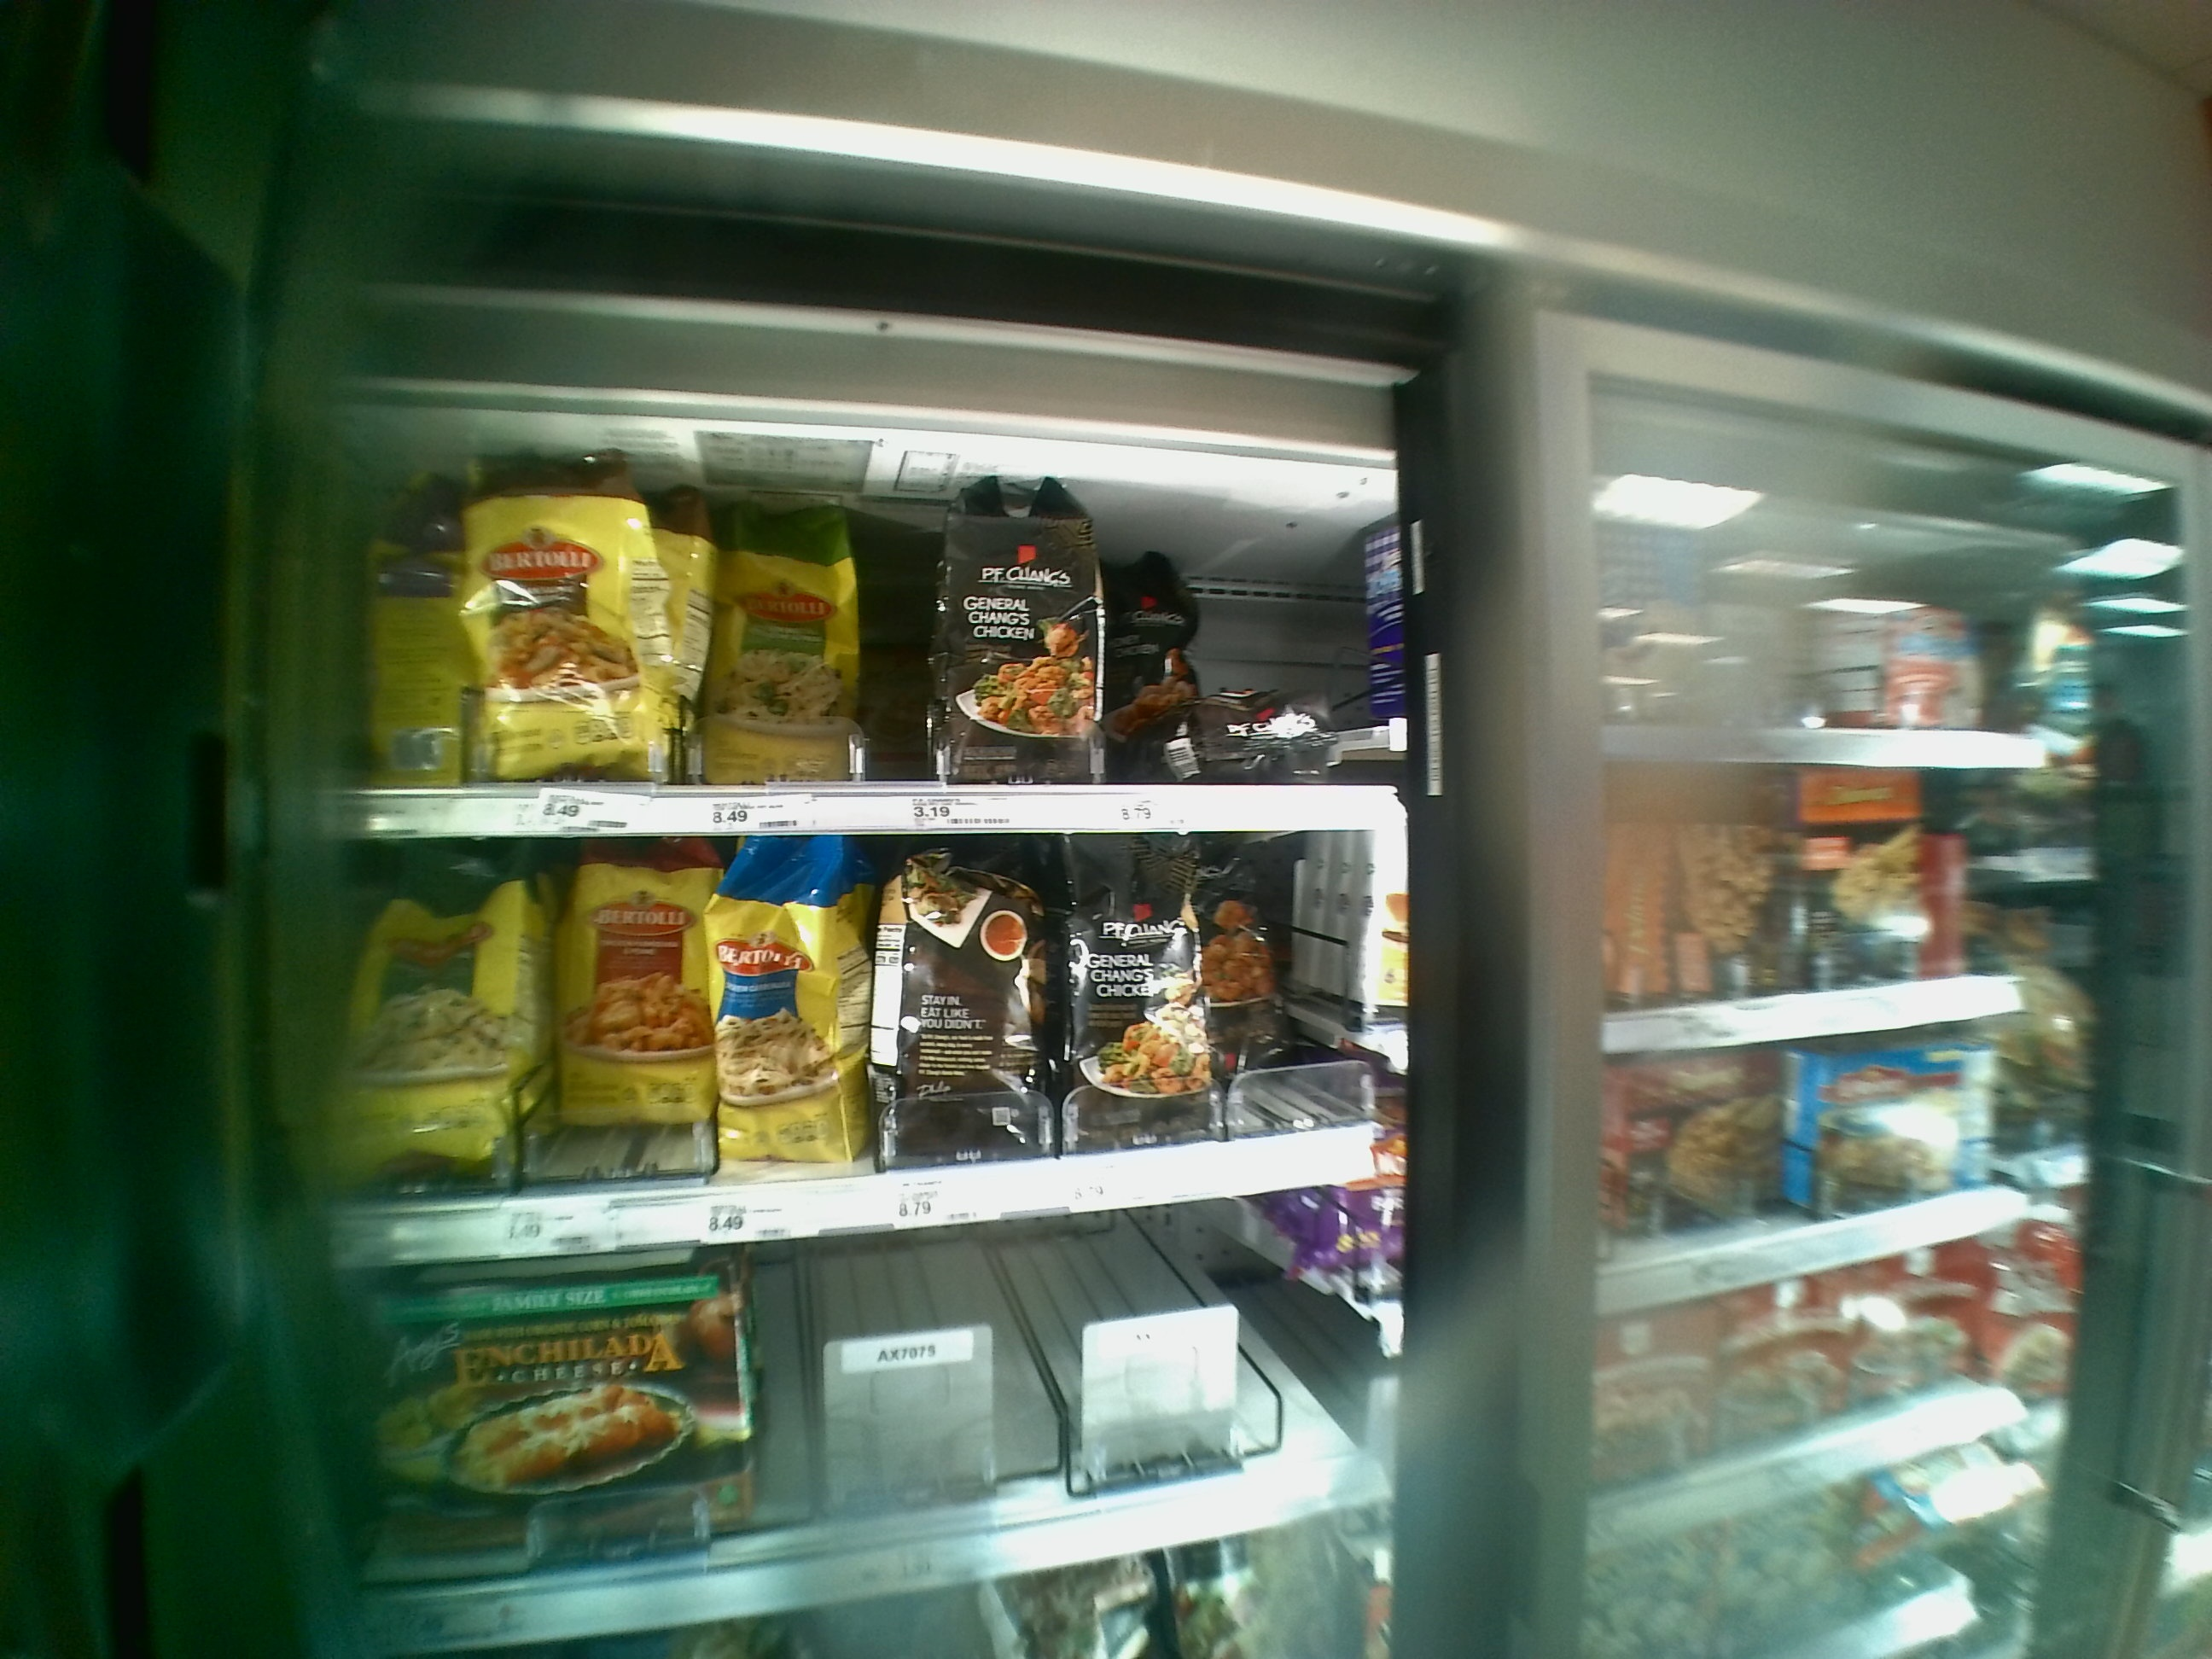shelf: (317, 404, 1374, 836), (331, 835, 1399, 1225), (352, 1236, 1381, 1640)
